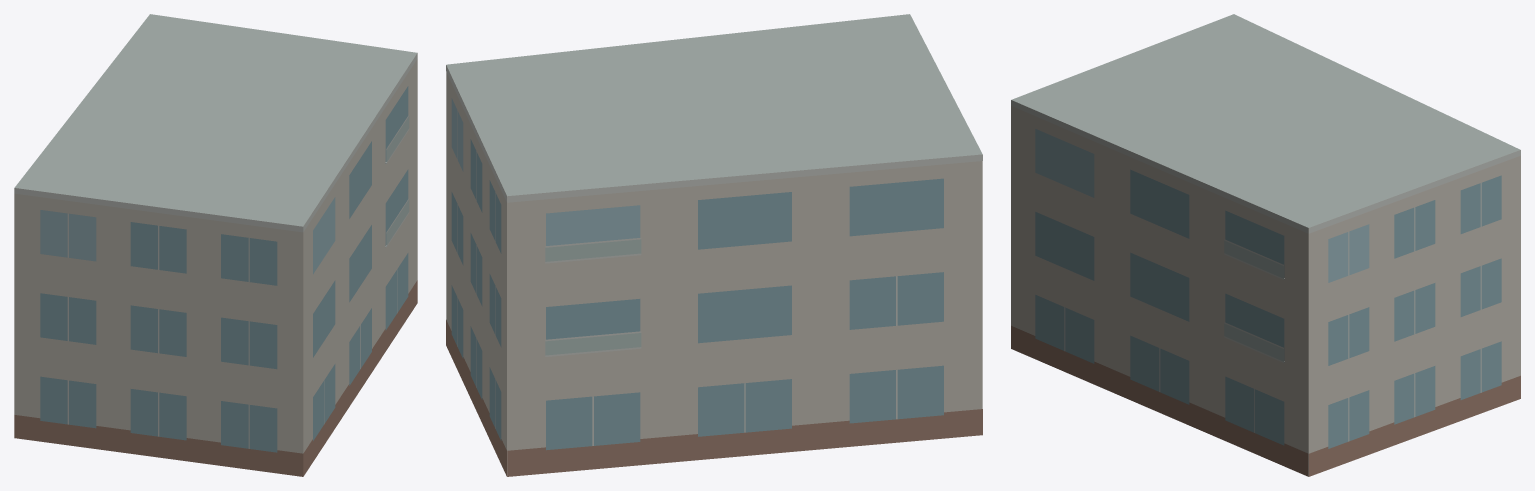
The model's file is survey-upis-32839581.glb.
3 views of the same model, side by side, from view 1: azimuth 30°, elevation 25°; view 2: azimuth 150°, elevation 25°; view 3: azimuth 270°, elevation 25° (orthographic). The views are drawn at different scales.
Parts seen in each view (by area): view 1: survey-upis-32839581.tmp; view 2: survey-upis-32839581.tmp; view 3: survey-upis-32839581.tmp.
Part boxes in pixels (x1,y1,x2,y2): survey-upis-32839581.tmp: (14,14,417,476); survey-upis-32839581.tmp: (446,14,982,476); survey-upis-32839581.tmp: (1011,14,1520,476).
Bounding box in the file's own units: 19.37 × 10.5 × 19.49.
